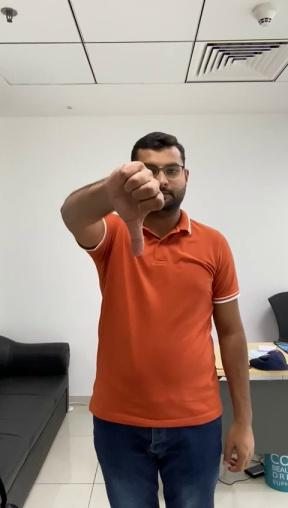thumbs-down: (110, 161, 163, 256)
